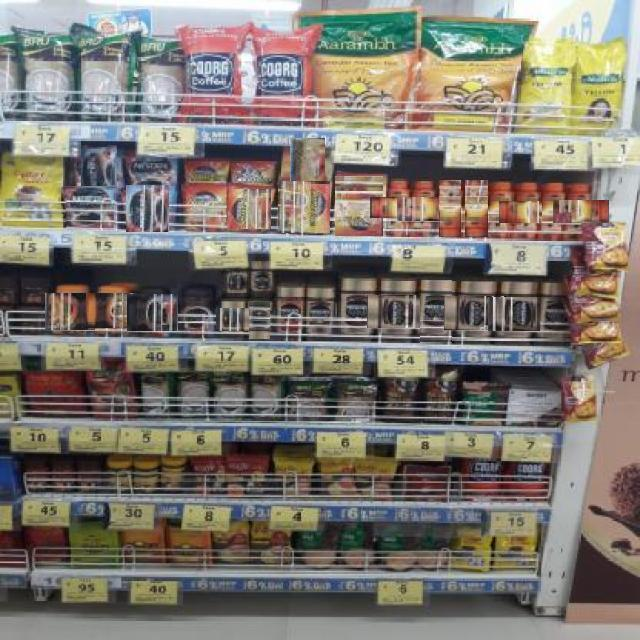Coffee: (334, 175, 383, 236), (278, 181, 330, 233), (445, 295, 508, 330), (487, 297, 551, 331), (342, 279, 376, 342), (367, 294, 429, 328), (540, 284, 572, 348), (126, 185, 169, 232), (67, 187, 115, 229), (420, 281, 452, 343), (184, 186, 228, 230), (44, 293, 95, 330), (127, 294, 178, 331), (180, 288, 217, 338), (290, 137, 325, 188), (82, 144, 117, 195), (86, 293, 137, 328), (228, 188, 271, 229), (128, 151, 177, 186), (307, 288, 334, 341), (464, 180, 488, 237), (542, 183, 566, 240), (396, 197, 452, 221), (499, 200, 556, 223), (552, 200, 609, 223), (439, 180, 461, 237), (491, 181, 513, 238), (370, 197, 427, 218), (215, 308, 252, 331), (250, 261, 272, 298), (248, 302, 270, 339), (221, 272, 249, 293)
